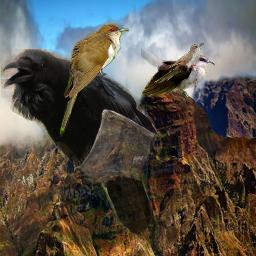Crow: (1, 49, 158, 240)
Cuckoo: (60, 22, 129, 137), (141, 27, 215, 100), (154, 43, 204, 83)
